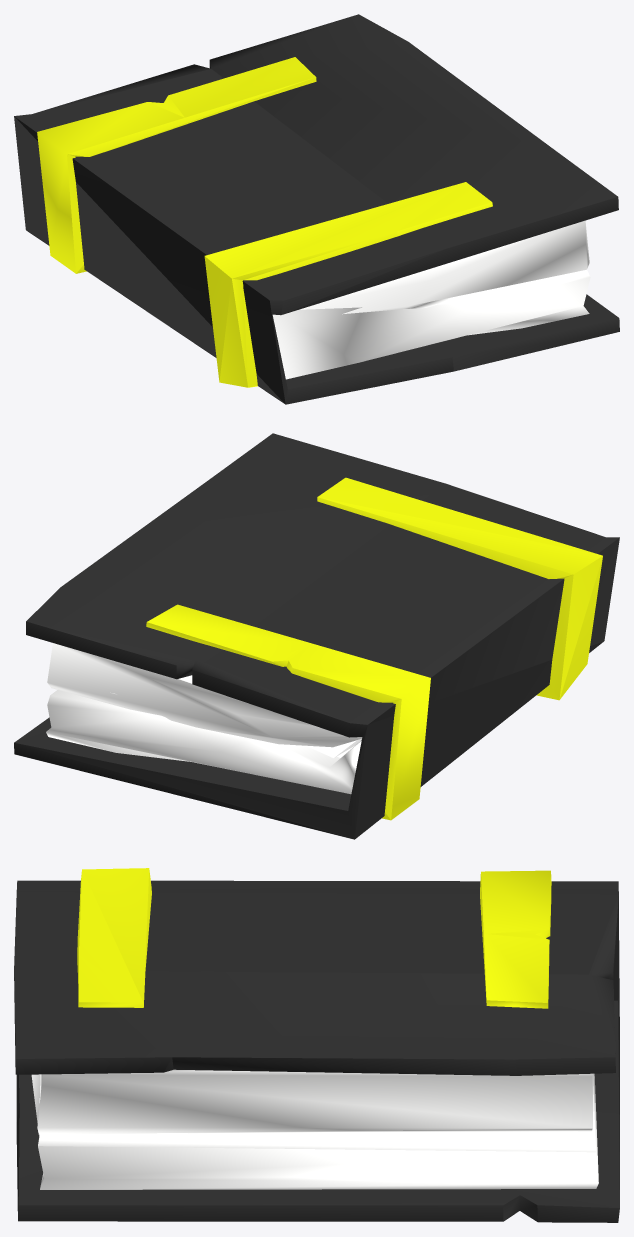
Rendered from CyberPunkGuestBookClosed.004.glb.
The picture shows the model from 3 angles, top to bottom: view 1: azimuth 30°, elevation 25°; view 2: azimuth 150°, elevation 25°; view 3: azimuth 270°, elevation 25°; orthographic projection. The views are drawn at different scales.
Parts seen in each view (by area): view 1: CyberPunkGuestBookClosed.004; view 2: CyberPunkGuestBookClosed.004; view 3: CyberPunkGuestBookClosed.004.
Boxes of the visible parts, <box> form: CyberPunkGuestBookClosed.004: <box>14,14,619,404</box>; CyberPunkGuestBookClosed.004: <box>14,433,619,839</box>; CyberPunkGuestBookClosed.004: <box>14,868,619,1222</box>.
Size of what is drawn, in the model's own units: 0.2654 by 0.1053 by 0.3243.
Materials: 2 (2 with a texture image).
